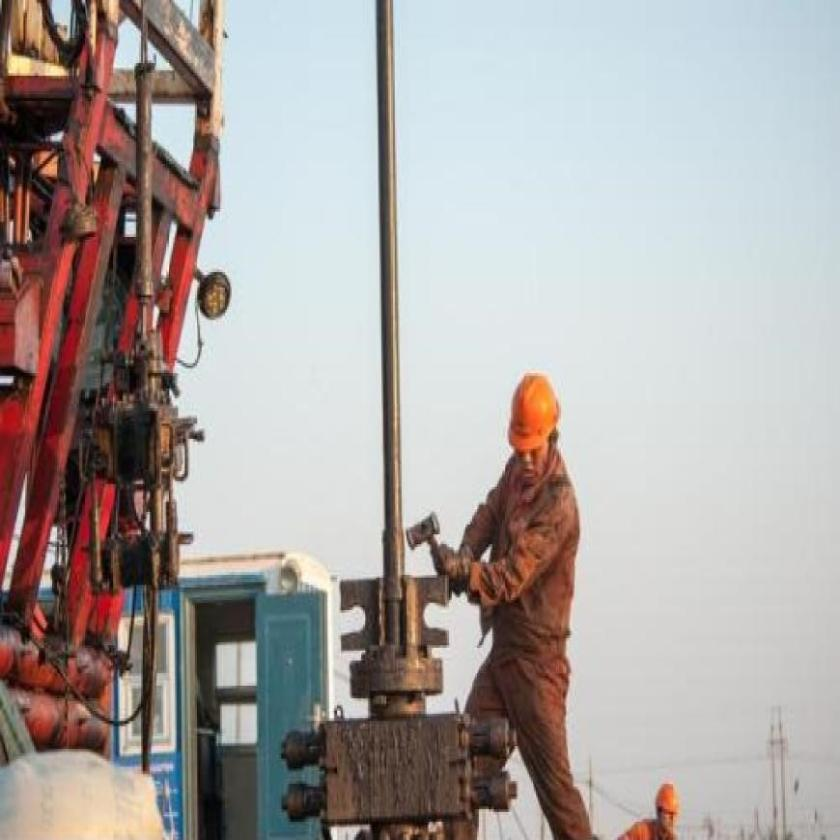Con_casco: (499, 372, 563, 487)
